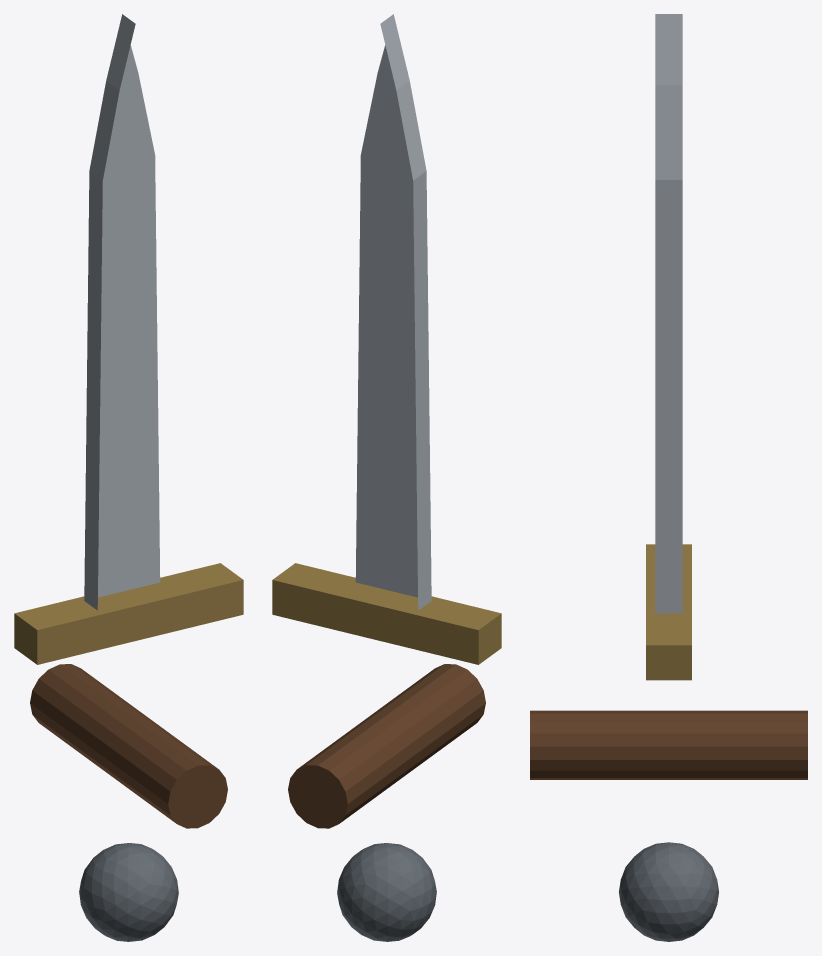
File: dagger.glb
3 renders of one model, left to right at view 1: azimuth 30°, elevation 25°; view 2: azimuth 150°, elevation 25°; view 3: azimuth 270°, elevation 25°, orthographic.
Parts seen in each view (by area): view 1: dagger_2, dagger_0, dagger_1, dagger_3; view 2: dagger_2, dagger_0, dagger_1, dagger_3; view 3: dagger_0, dagger_2, dagger_3, dagger_1.
Part boxes in pixels (box(x1,y1,x2,y2)): dagger_2: box(84, 14, 160, 610); dagger_0: box(30, 664, 227, 828); dagger_1: box(14, 563, 243, 664); dagger_3: box(79, 843, 178, 941); dagger_2: box(355, 14, 431, 610); dagger_0: box(288, 664, 485, 828); dagger_1: box(272, 563, 501, 664); dagger_3: box(337, 843, 436, 941); dagger_0: box(530, 710, 807, 779); dagger_2: box(655, 14, 682, 613); dagger_3: box(619, 842, 718, 941); dagger_1: box(646, 544, 691, 680).
Size of the model in its own units: 0.62 by 2.64 by 0.72.
